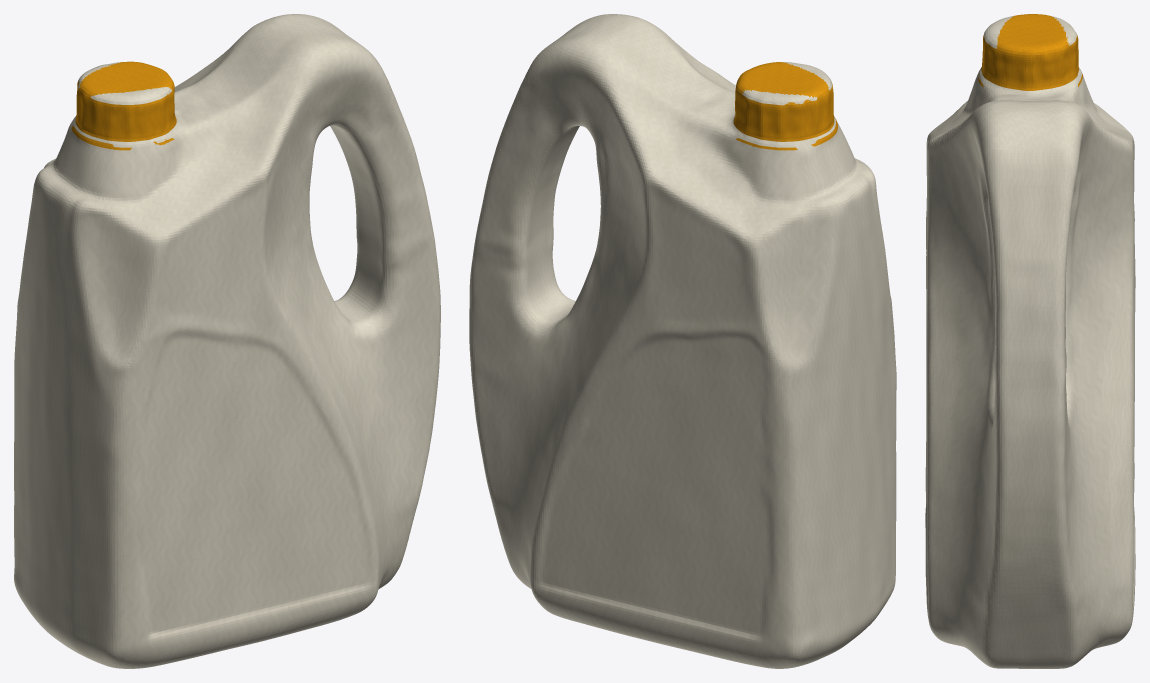
File: oil-bottle-procedural-fast.glb
The picture shows the model from 3 angles, left to right: view 1: azimuth 30°, elevation 25°; view 2: azimuth 150°, elevation 25°; view 3: azimuth 270°, elevation 25°; orthographic projection. The views are drawn at different scales.
Visible parts, largest first — view 1: FoodOilCan_UserGeometry; view 2: FoodOilCan_UserGeometry; view 3: FoodOilCan_UserGeometry.
Part boxes in pixels (left/top/right/bottom): FoodOilCan_UserGeometry: left=14, top=14, right=440, bottom=668; FoodOilCan_UserGeometry: left=469, top=14, right=896, bottom=668; FoodOilCan_UserGeometry: left=925, top=14, right=1135, bottom=668.
Size of the model in its own units: 0.1485 by 0.208 by 0.0742.
2 materials, 2 textured.
